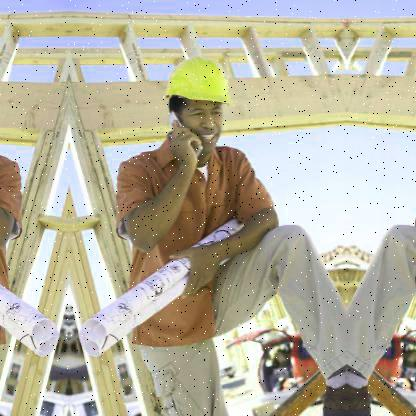Helmet: (154, 49, 246, 166)
